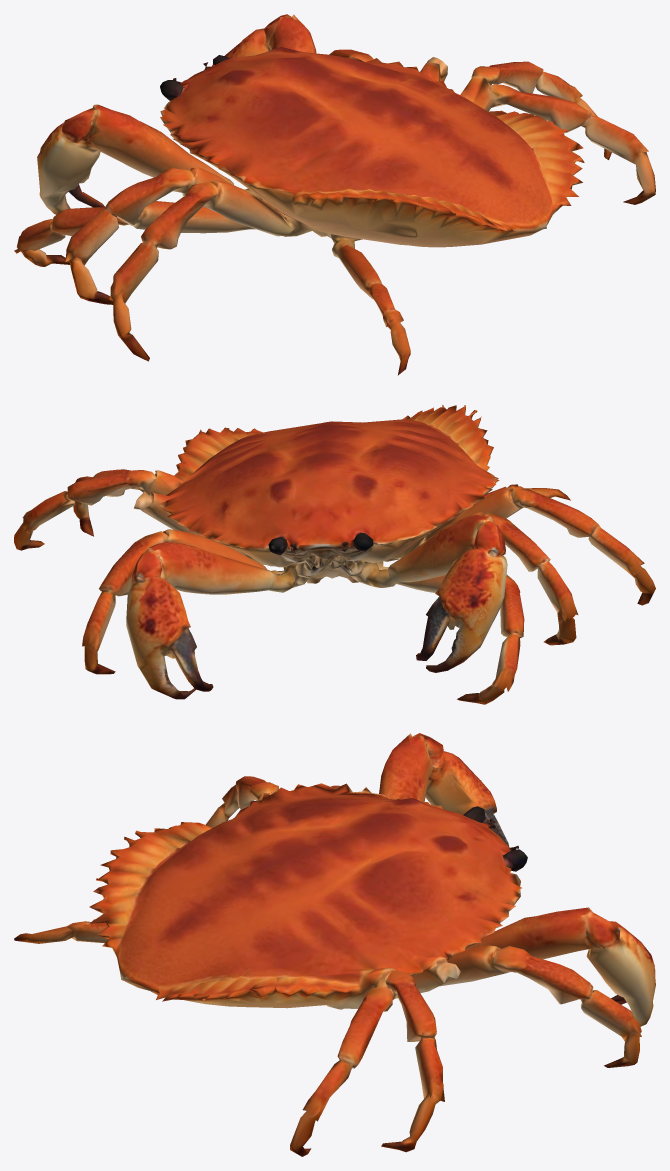
Rendered from redcrab.glb.
3 renders of one model, top to bottom at view 1: azimuth 30°, elevation 25°; view 2: azimuth 150°, elevation 25°; view 3: azimuth 270°, elevation 25°, orthographic. The views are drawn at different scales.
Visible parts, largest first — view 1: tripo_node_24081453-883b-40a7-9de4-d33fd4028e5f; view 2: tripo_node_24081453-883b-40a7-9de4-d33fd4028e5f; view 3: tripo_node_24081453-883b-40a7-9de4-d33fd4028e5f.
Part boxes in pixels (bbox=[...]): tripo_node_24081453-883b-40a7-9de4-d33fd4028e5f: bbox=[14, 14, 655, 375]; tripo_node_24081453-883b-40a7-9de4-d33fd4028e5f: bbox=[14, 405, 655, 704]; tripo_node_24081453-883b-40a7-9de4-d33fd4028e5f: bbox=[14, 733, 655, 1156].
Size of the model in its own units: 1 by 0.3041 by 0.9224.
Materials: 1 (1 with a texture image).
